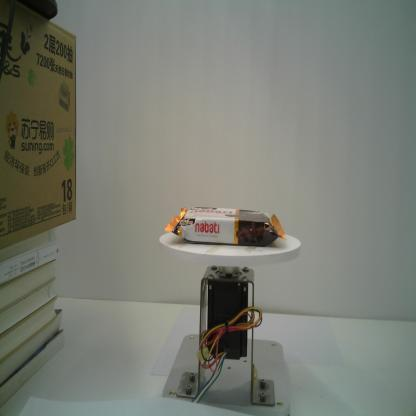Dessert: (161, 202, 286, 253)
